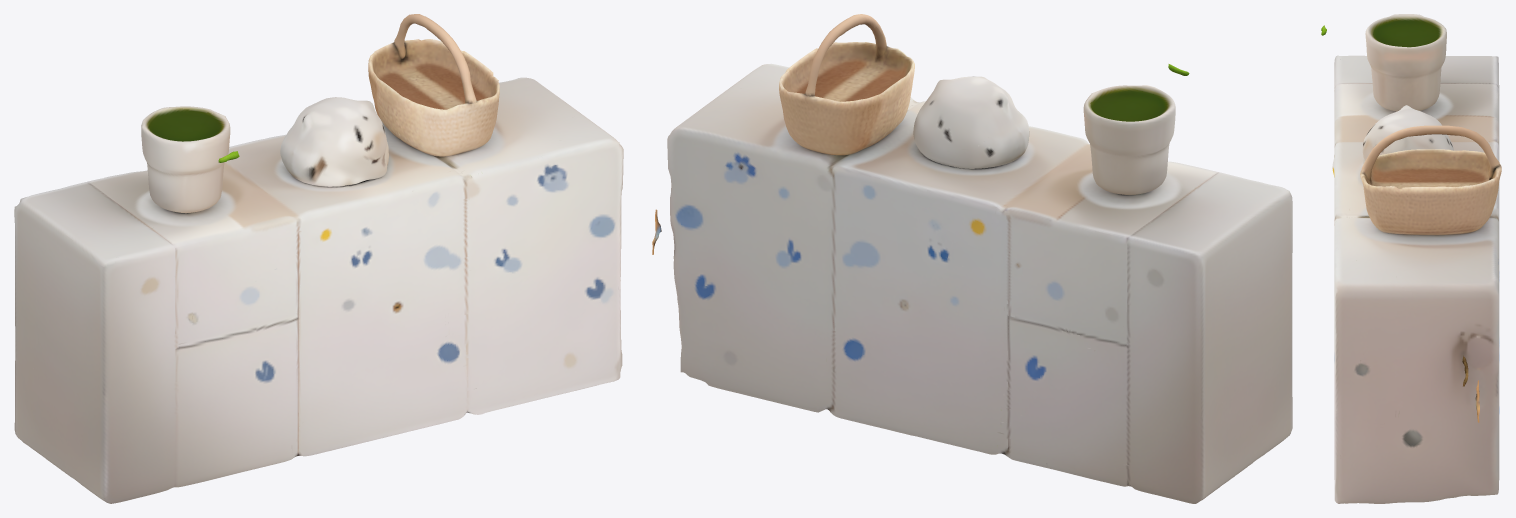
File: kids柜子 (3).fbx
The picture shows the model from 3 angles, left to right: view 1: azimuth 30°, elevation 25°; view 2: azimuth 150°, elevation 25°; view 3: azimuth 270°, elevation 25°; orthographic projection. The views are drawn at different scales.
Parts seen in each view (by area): view 1: root.0, root.1, root.3, root.4, root.6; view 2: root.0, root.1, root.3, root.4, root.6; view 3: root.0, root.1, root.3, root.4, root.6, root.5.
Boxes of the visible parts, <box> form: root.0: <box>14,77,623,503</box>; root.1: <box>368,39,499,156</box>; root.3: <box>141,106,230,213</box>; root.4: <box>280,97,388,186</box>; root.6: <box>394,14,476,103</box>; root.0: <box>667,63,1292,503</box>; root.1: <box>779,42,914,155</box>; root.3: <box>1083,85,1175,195</box>; root.4: <box>913,76,1029,168</box>; root.6: <box>805,14,886,96</box>; root.0: <box>1332,55,1499,503</box>; root.1: <box>1360,149,1501,235</box>; root.3: <box>1365,14,1446,111</box>; root.4: <box>1362,105,1453,164</box>; root.6: <box>1361,125,1499,180</box>; root.5: <box>1462,355,1479,422</box>.
Size of the model in its own units: 175 by 108 by 55.03.
